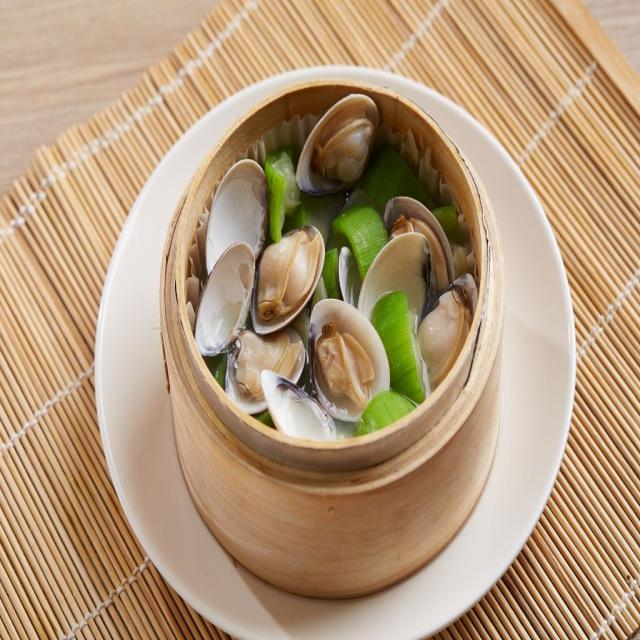Wet: (186, 106, 483, 465)
